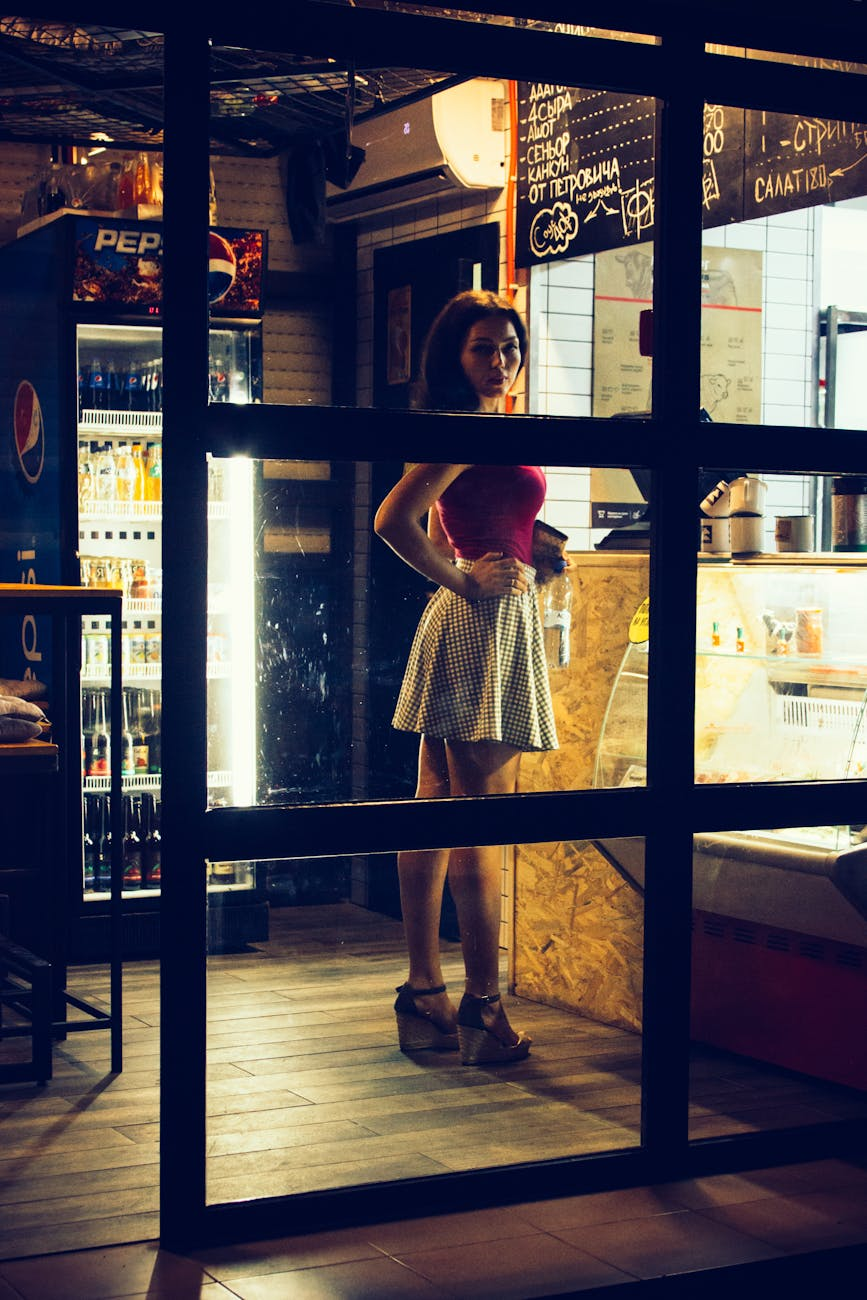opened_foot: (382, 978, 533, 1070)
short_medium_skirt: (389, 563, 571, 749)
